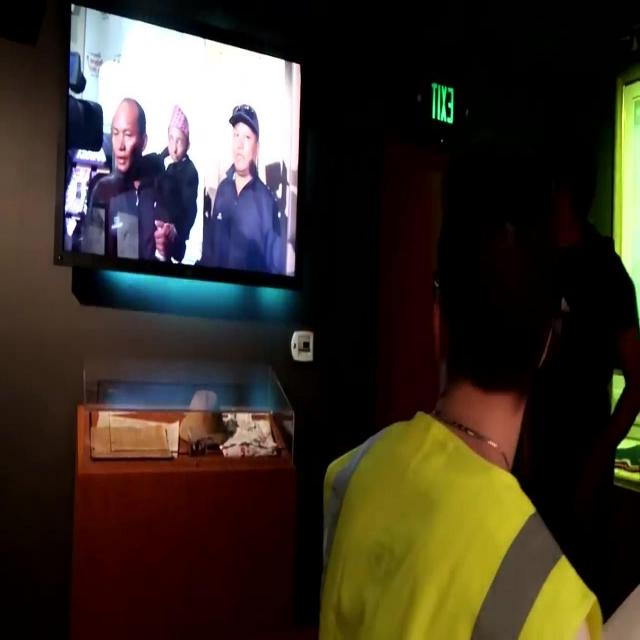Reflective-Jacket: (314, 407, 603, 640)
